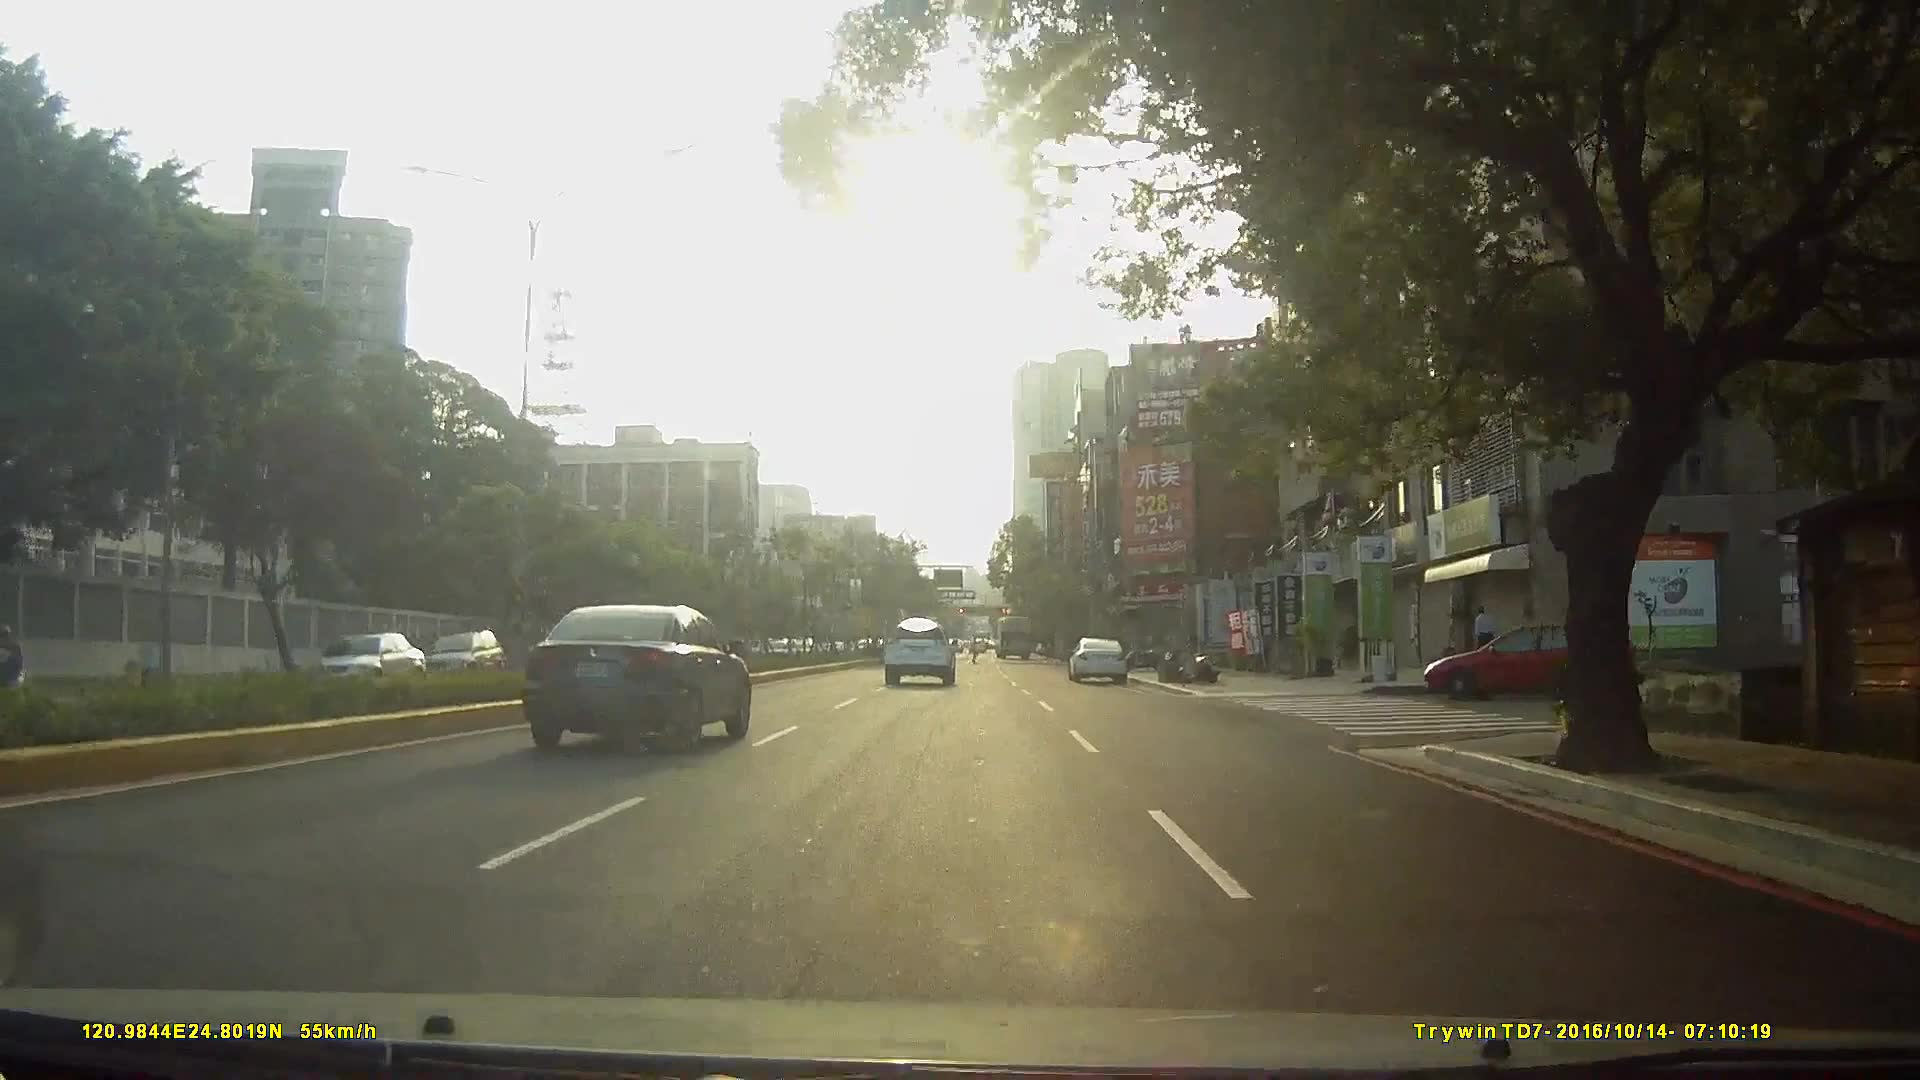pedestrian: (1471, 607, 1495, 677)
rider: (1, 627, 34, 703)
vehicle: (528, 599, 756, 750), (1417, 611, 1645, 705), (302, 624, 438, 698), (422, 612, 513, 669), (883, 616, 957, 684), (1066, 632, 1131, 680), (991, 606, 1035, 654)
